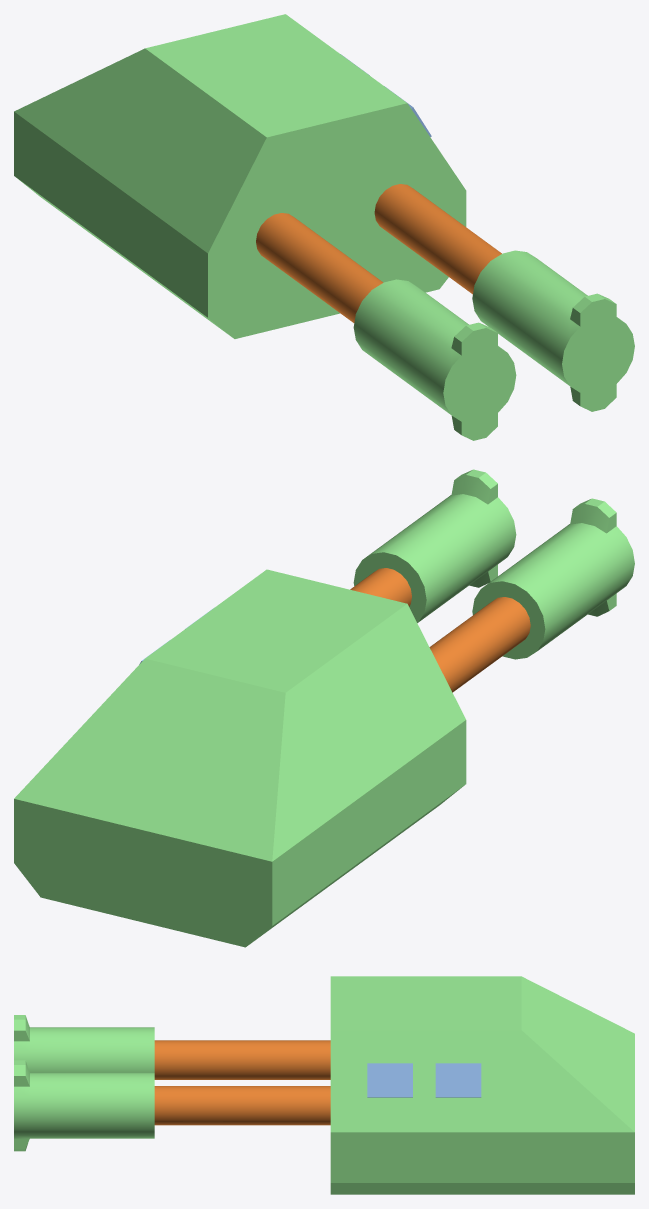
Rendered from Turret_Head 1.FBX.
3 renders of one model, top to bottom at view 1: azimuth 30°, elevation 25°; view 2: azimuth 150°, elevation 25°; view 3: azimuth 270°, elevation 25°, orthographic. The views are drawn at different scales.
Parts seen in each view (by area): view 1: Turret; view 2: Turret; view 3: Turret.
Part boxes in pixels (<box>): Turret: <box>14,14,634,440</box>; Turret: <box>14,469,634,947</box>; Turret: <box>14,976,634,1194</box>.
Size of the model in its own units: 20 by 14.35 by 53.11.
